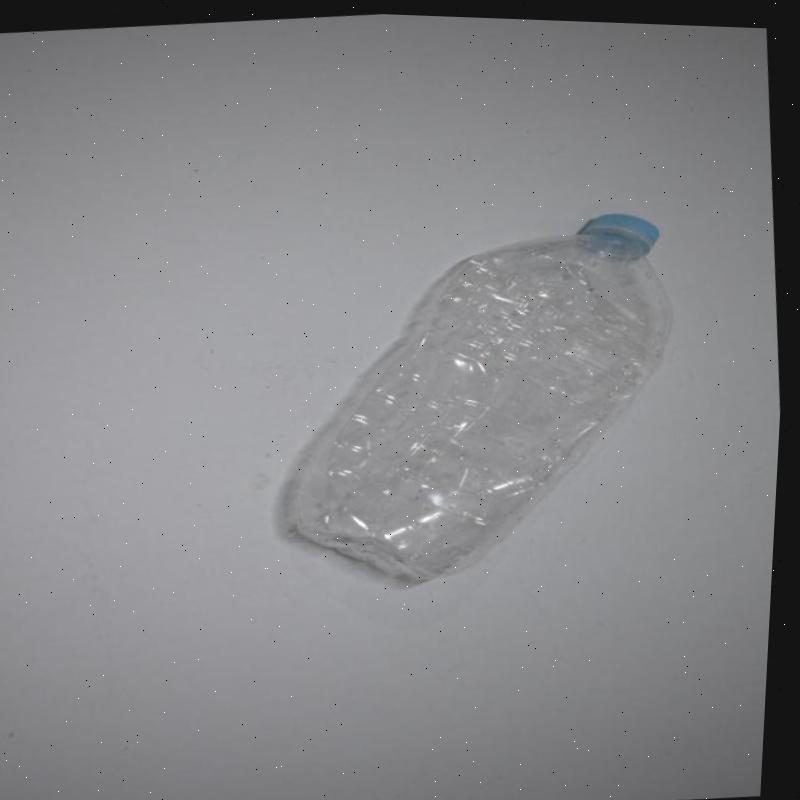botella: (261, 195, 693, 599)
